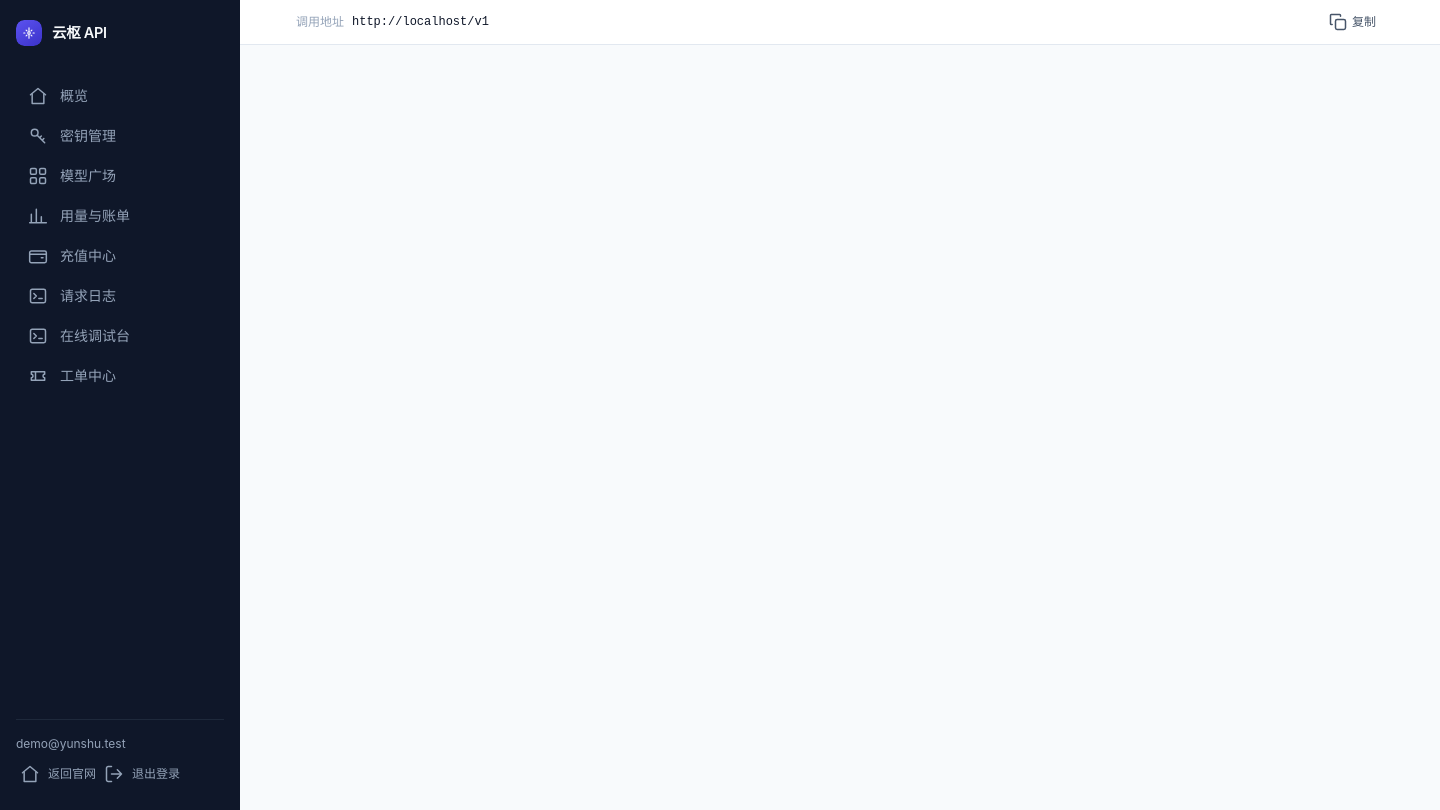
Test: 控制台常驻调用地址 › 复制按钮把地址写入剪贴板并给出「已复制」反馈
Click the button with aria-label "复制调用地址": (1352, 22) [1320, 8, 1384, 36]
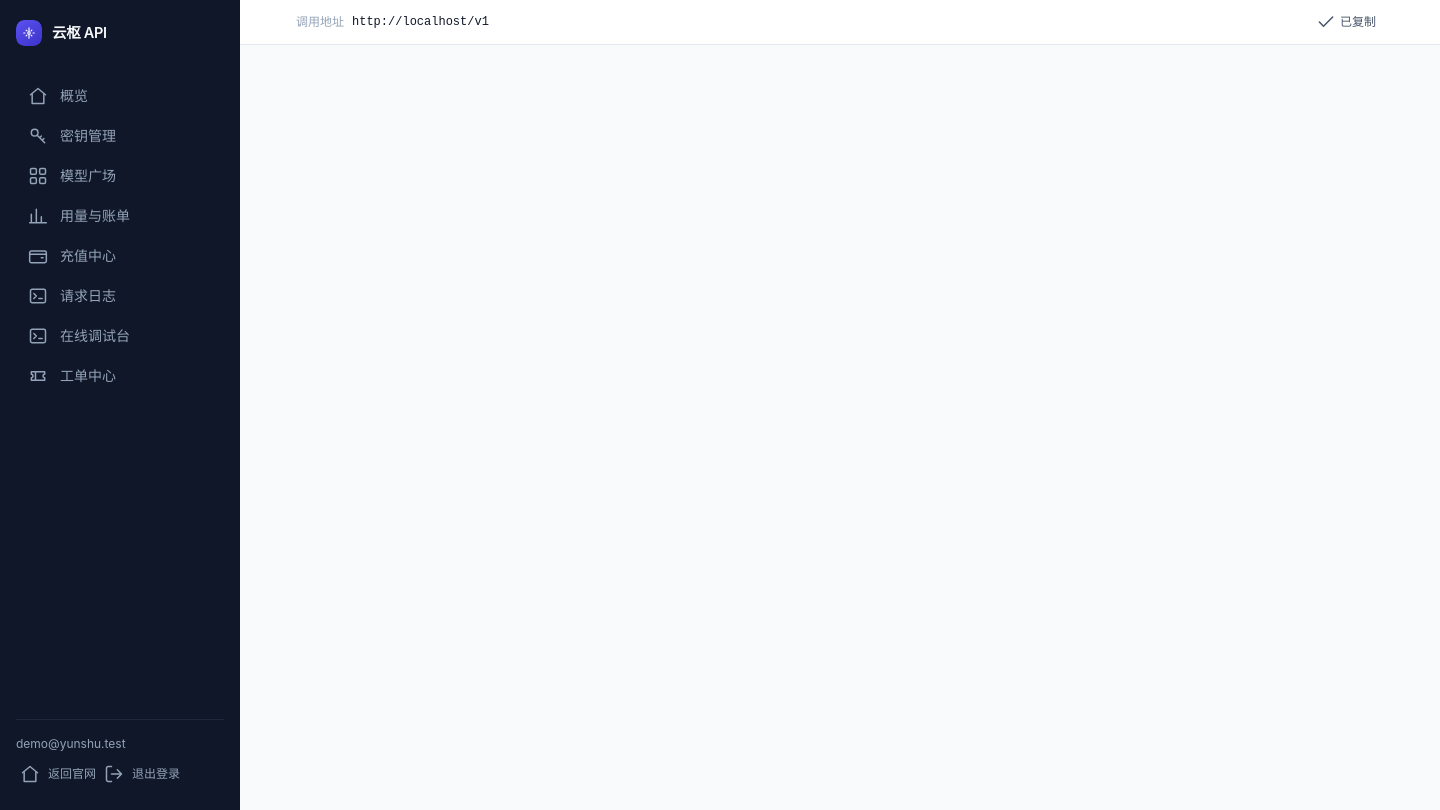
Expected: the button with aria-label "已复制调用地址" is shown, [1308, 8, 1384, 36]
